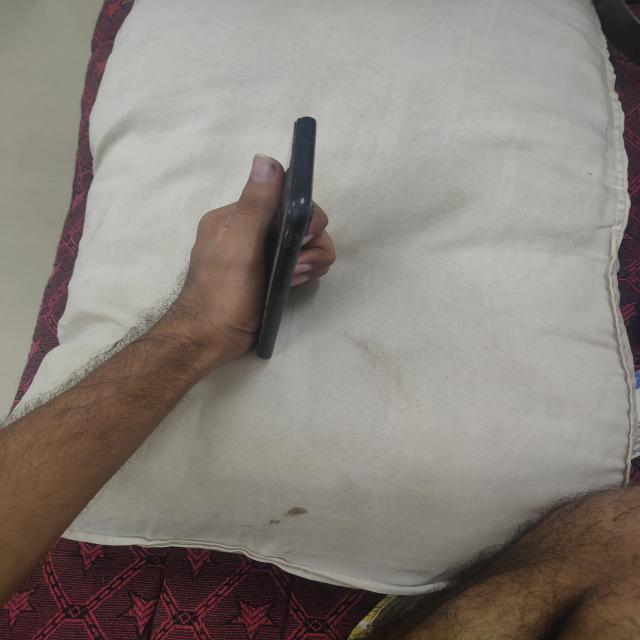Phone: (244, 111, 325, 364)
